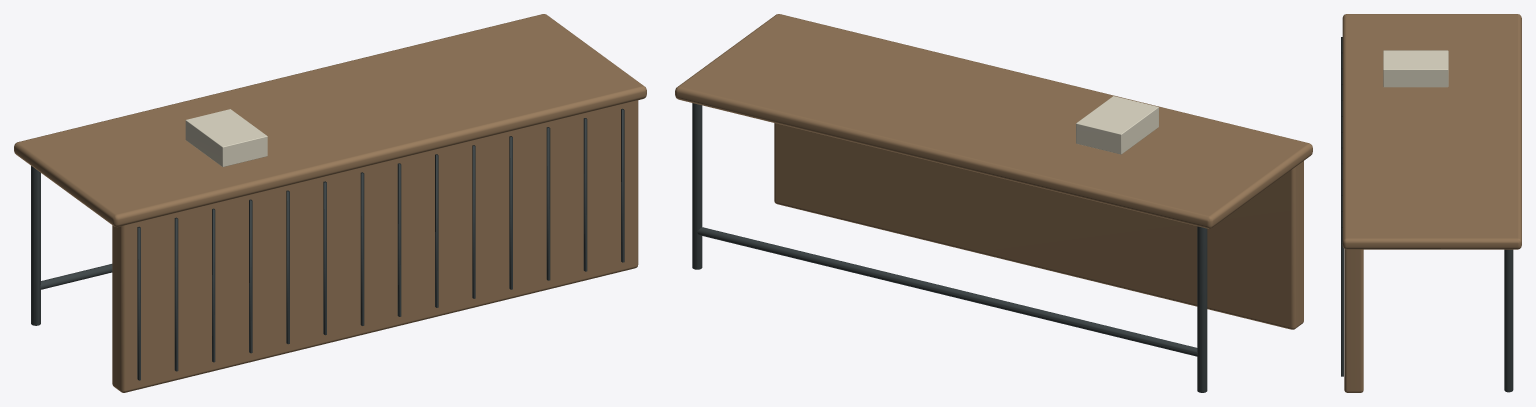
File: H_ReceptionDesk.fbx
The picture shows the model from 3 angles, left to right: view 1: azimuth 30°, elevation 25°; view 2: azimuth 150°, elevation 25°; view 3: azimuth 270°, elevation 25°; orthographic projection. The views are drawn at different scales.
Visible parts, largest first — view 1: H_ReceptionDesk; view 2: H_ReceptionDesk; view 3: H_ReceptionDesk.
Boxes of the visible parts, x1=… form: H_ReceptionDesk: x1=14, y1=14, x2=646, y2=392; H_ReceptionDesk: x1=675, y1=14, x2=1312, y2=392; H_ReceptionDesk: x1=1341, y1=14, x2=1521, y2=392.
Bounding box in the file's own units: 3.3 × 1.19 × 1.11.
